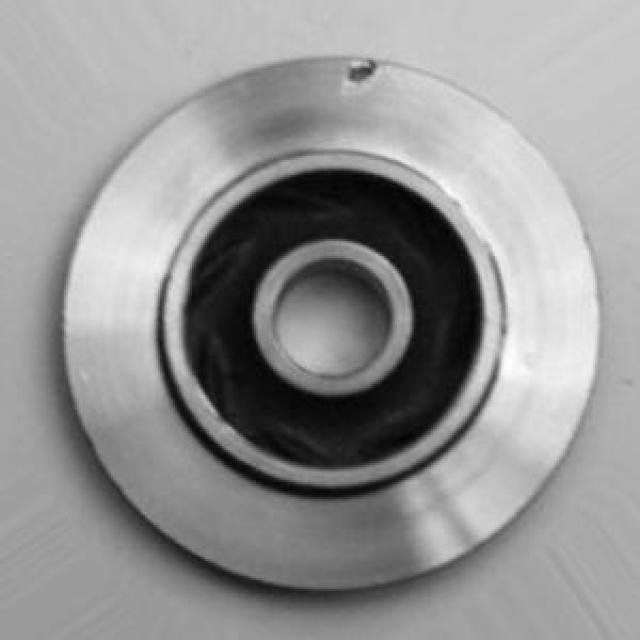Defect: (344, 55, 388, 94)
